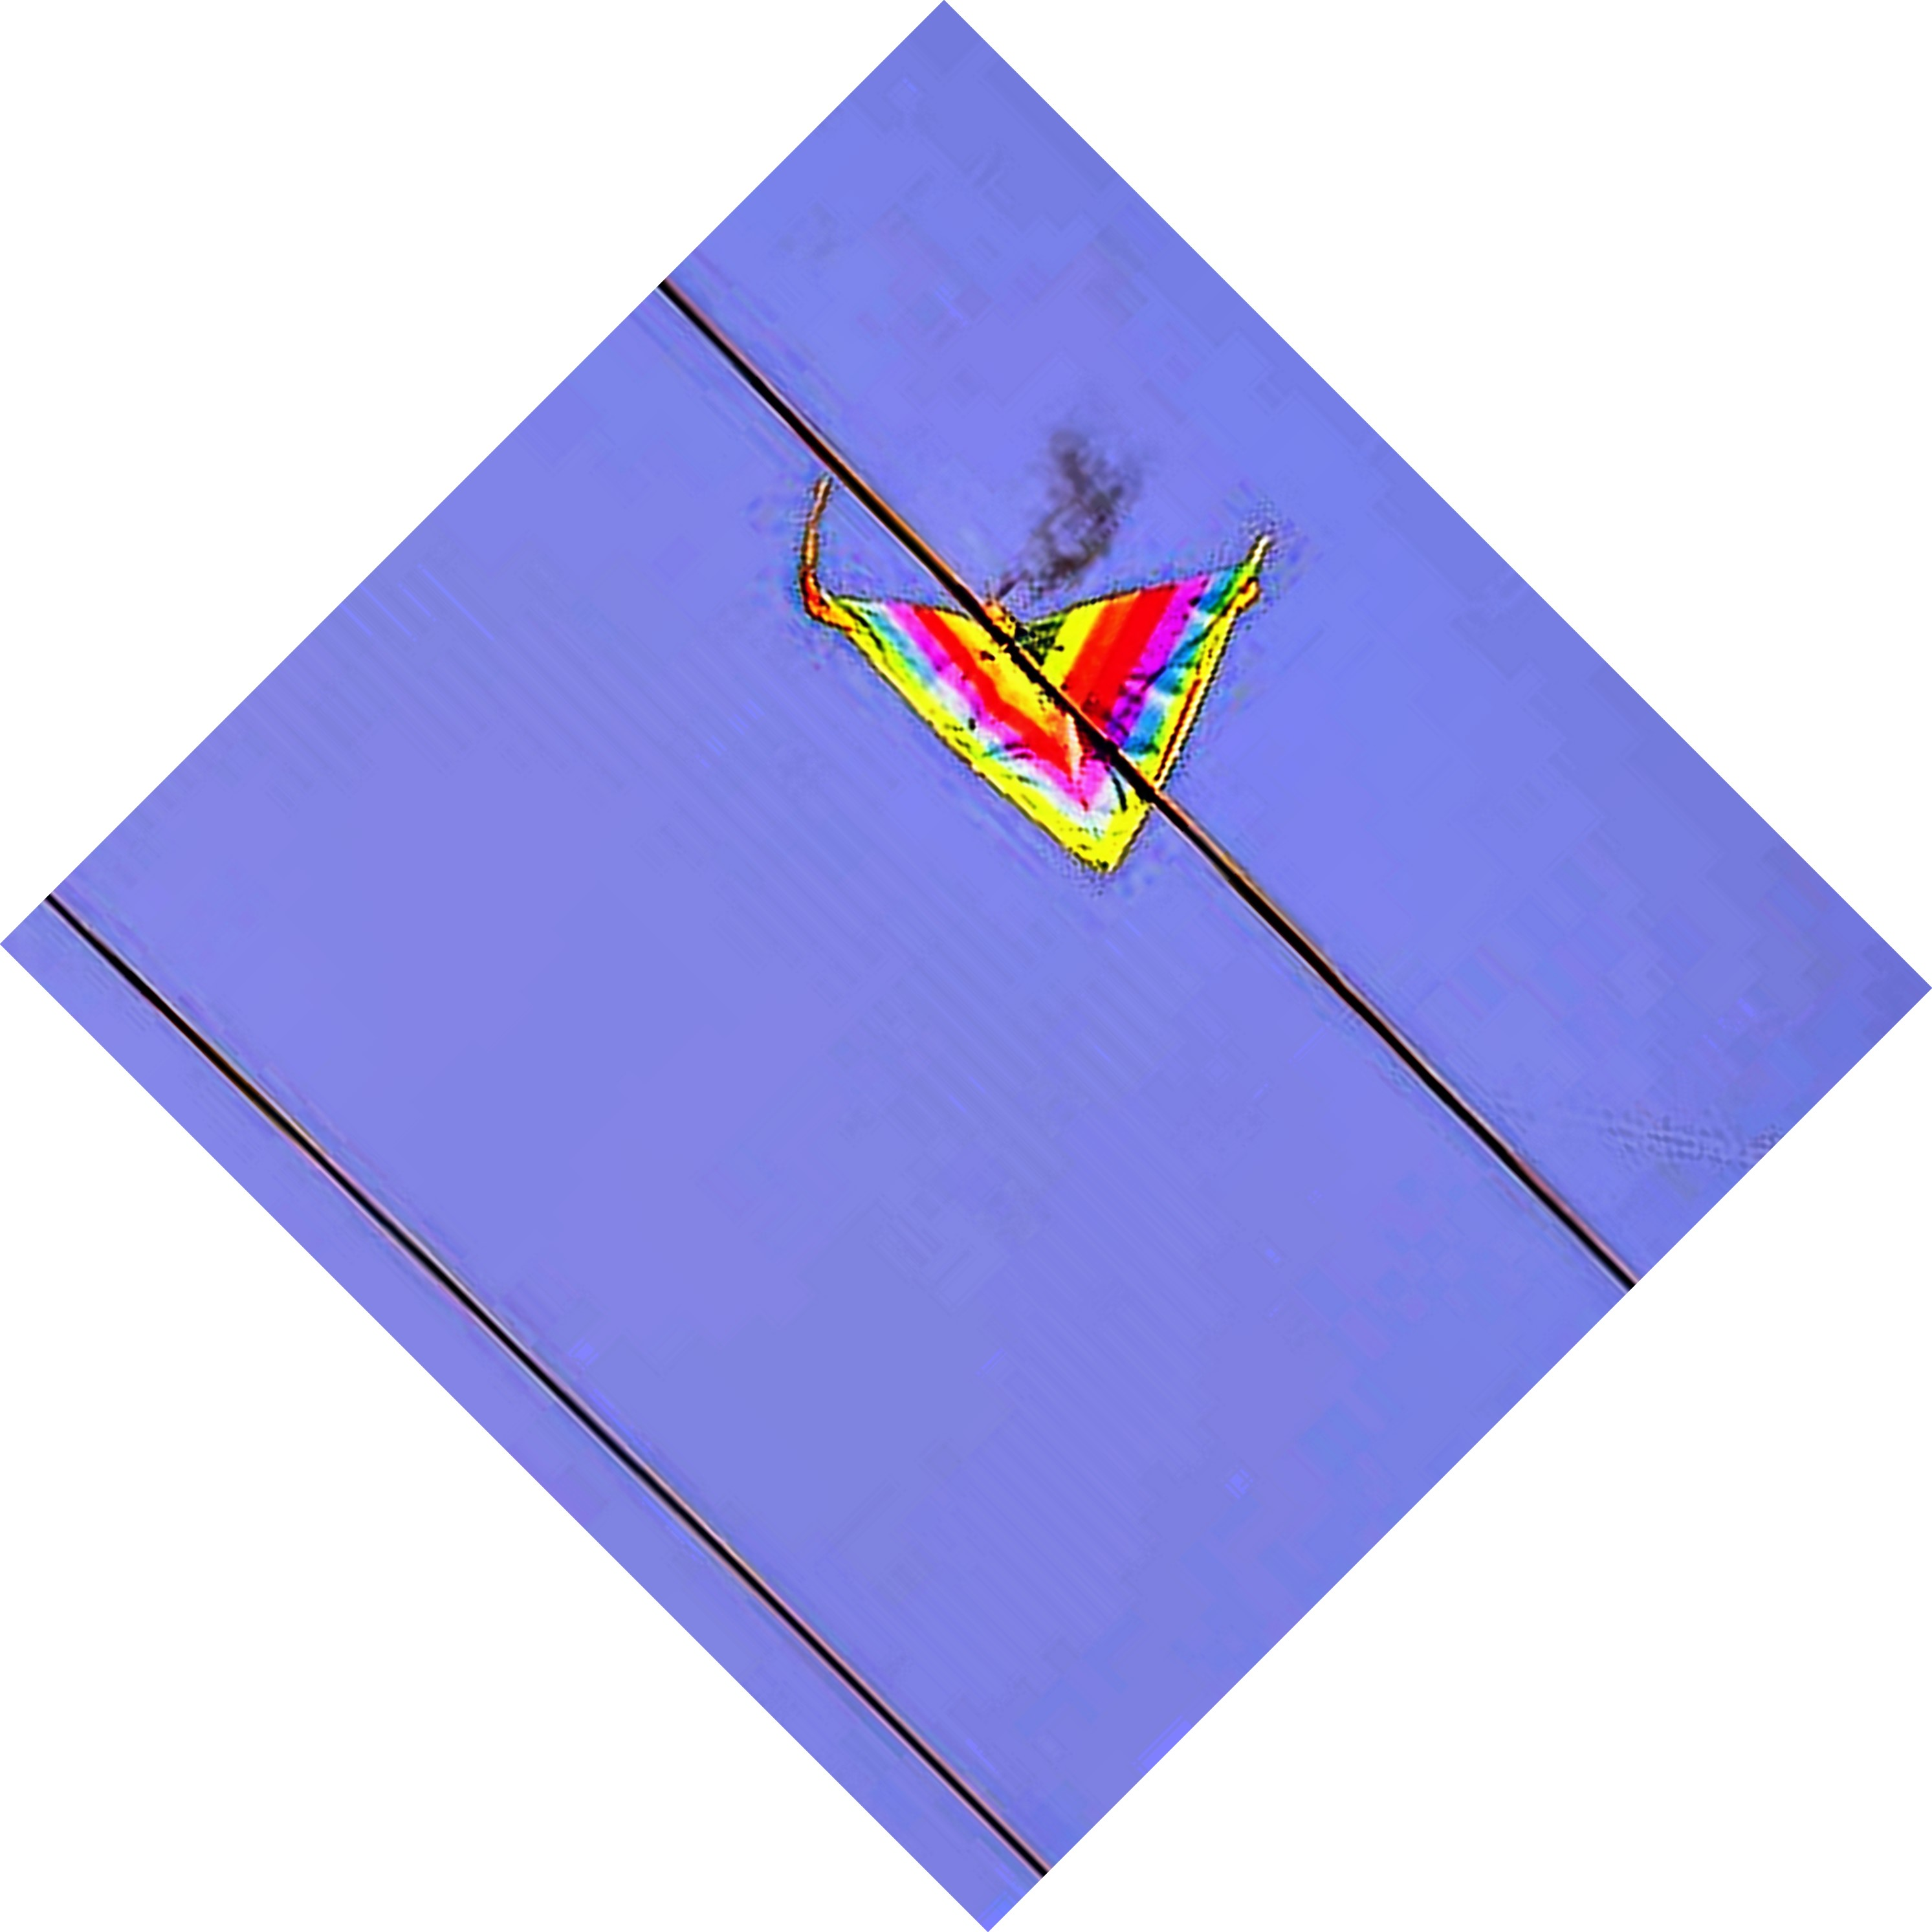wire foreign body: (770, 504, 1357, 916)
